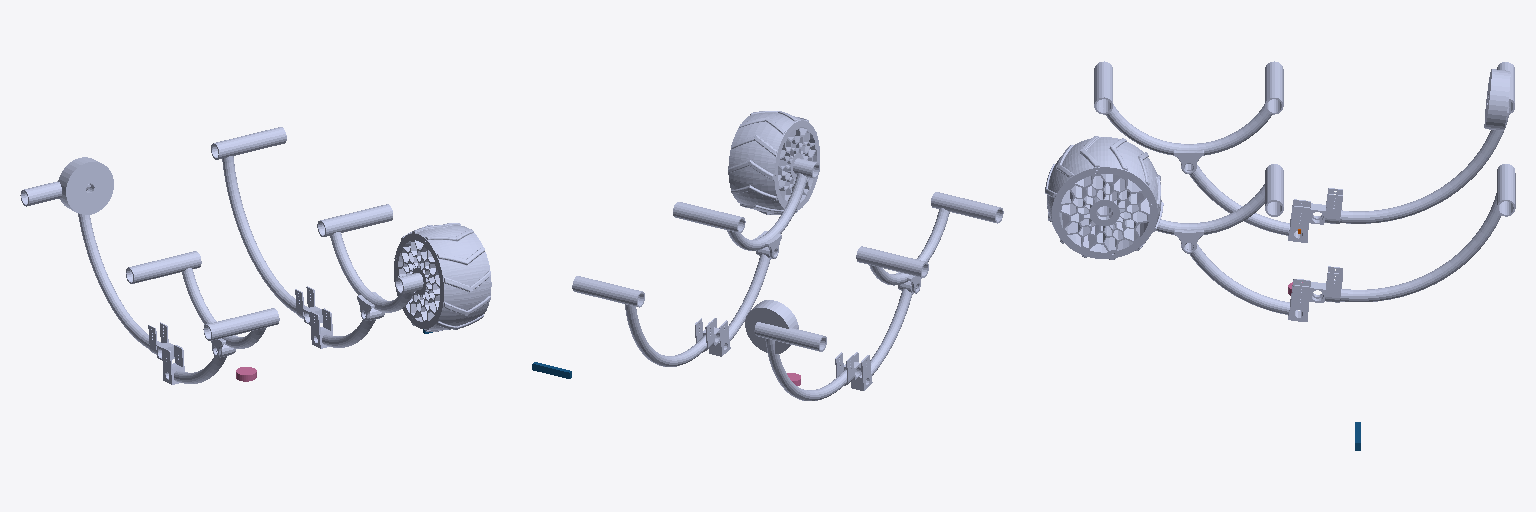
--- Render facts (derived) ---
The picture shows the robot from 3 angles, left to right: view 1: azimuth 30°, elevation 25°; view 2: azimuth 150°, elevation 25°; view 3: azimuth 270°, elevation 25°; orthographic projection.
Model drive with 17 links and 16 joints (6 revolute, 6 continuous, 4 fixed), rooted at base, posed every joint at zero.
Links seen in each view (by area): view 1: wheel_1, left_bogie, right_back, right_bogie, left_back, wheel_6, left_front, right_front; view 2: wheel_1, left_bogie, right_bogie, right_back, left_back, left_front, right_front, wheel_6; view 3: wheel_1, left_bogie, right_back, left_back, right_bogie, right_front, left_front, wheel_6.
Link boxes in pixels (x1,y1,x2,y2): wheel_1: (394,223,491,331); left_bogie: (126,251,279,356); right_back: (211,127,322,325); right_bogie: (317,204,423,320); left_back: (20,181,174,360); wheel_6: (58,157,113,214); left_front: (162,344,233,384); right_front: (310,308,381,348); wheel_1: (728,111,819,214); left_bogie: (856,192,1003,293); right_bogie: (673,158,819,258); right_back: (572,276,720,366); left_back: (754,322,861,400); left_front: (851,281,916,390); right_front: (708,247,774,356); wheel_6: (745,300,798,353); wheel_1: (1045,136,1163,259); left_bogie: (1094,61,1283,173); right_back: (1310,164,1515,302); left_back: (1309,62,1514,224); right_bogie: (1096,164,1283,253); right_front: (1181,243,1310,321); left_front: (1181,164,1310,242); wheel_6: (1484,69,1510,130).
Size in the robot's own frame: 1.24 by 1.24 by 0.6811 metres.
Meshes: 13 distinct files referenced, 8 mesh visuals loaded (8 binary STL); not drawn: 5 (reference not matched to a file when rendering).

The robot description file, URDF, robot "drive":
<?xml version="1.0" encoding="utf-8"?>
<!-- This URDF was automatically created by SolidWorks to URDF Exporter! Originally created by Stephen Brawner ([email redacted]) 
     Commit Version: 1.6.0-1-g15f4949  Build Version: 1.6.7594.29634
     For more information, please see http://wiki.ros.org/sw_urdf_exporter -->
<robot
  name="drive">
  <link
    name="base">
    <inertial>
      <origin
        xyz="-0.345788930637997 -0.153460943930369 -0.0148574304076997"
        rpy="0 0 0" />
      <mass
        value="34.1059688345868" />
      <inertia
        ixx="2.15746797612818"
        ixy="0.00470920534979304"
        ixz="-1.71459033522724E-06"
        iyy="0.759382756881473"
        iyz="0.00265969830513678"
        izz="2.53264735973746" />
    </inertial>
    <visual>
      <origin
        xyz="0 0 0"
        rpy="0 0 0" />
      <geometry>
        <mesh
          filename="package://drive_nav2/meshes/base.STL" />
      </geometry>
      <material
        name="">
        <color
          rgba="0.752941176470588 0.752941176470588 0.752941176470588 1" />
      </material>
    </visual>
    <collision>
      <origin
        xyz="0 0 0"
        rpy="0 0 0" />
      <geometry>
        <mesh
          filename="package://drive_nav2/meshes/base.STL" />
      </geometry>
    </collision>
  </link>
  <link
    name="right_front">
    <inertial>
      <origin
        xyz="-0.12375 -0.053132 0.0225"
        rpy="0 0 0" />
      <mass
        value="0.26897" />
      <inertia
        ixx="0.001013"
        ixy="-0.0017699"
        ixz="2.1696E-09"
        iyy="0.0042352"
        iyz="1.083E-09"
        izz="0.0051616" />
    </inertial>
    <visual>
      <origin
        xyz="0 0 0"
        rpy="0 0 0" />
      <geometry>
        <mesh
          filename="package://drive_nav2/meshes/right_front.STL" />
      </geometry>
      <material
        name="">
        <color
          rgba="0.79216 0.81961 0.93333 1" />
      </material>
    </visual>
    <collision>
      <origin
        xyz="0 0 0"
        rpy="0 0 0" />
      <geometry>
        <mesh
          filename="package://drive_nav2/meshes/right_front.STL" />
      </geometry>
    </collision>
  </link>
  <joint
    name="joint_right_front"
    type="revolute">
    <origin
      xyz="-0.070337 -0.15542 -0.062427"
      rpy="-1.5708 0.12123 1.5708" />
    <parent
      link="base" />
    <child
      link="right_front" />
    <axis
      xyz="0 0 1" />
    <limit
      effort="10"
      velocity="0"
      lower="-1.0"
      upper="1.0" />
  </joint>
  <link
    name="right_bogie">
    <inertial>
      <origin
        xyz="-4.0066E-06 -0.13053 0.016329"
        rpy="0 0 0" />
      <mass
        value="0.59393" />
      <inertia
        ixx="0.0020082"
        ixy="2.9932E-07"
        ixz="-1.3098E-08"
        iyy="0.0053136"
        iyz="3.3927E-09"
        izz="0.0045241" />
    </inertial>
    <visual>
      <origin
        xyz="0 0 0"
        rpy="0 0 0" />
      <geometry>
        <mesh
          filename="package://drive_nav2/meshes/right_bogie.STL" />
      </geometry>
      <material
        name="">
        <color
          rgba="0.79216 0.81961 0.93333 1" />
      </material>
    </visual>
    <collision>
      <origin
        xyz="0 0 0"
        rpy="0 0 0" />
      <geometry>
        <mesh
          filename="package://drive_nav2/meshes/right_bogie.STL" />
      </geometry>
    </collision>
  </link>
  <joint
    name="joint_right_bogie"
    type="revolute">
    <origin
      xyz="-0.31109 -0.16078 0"
      rpy="-3.1416 0 3.0204" />
    <parent
      link="right_front" />
    <child
      link="right_bogie" />
    <axis
      xyz="0 0 1" />
    <limit
      effort="10"
      velocity="0"
      lower="-3.14159"
      upper="3.14159"/>
  </joint>
  <link
    name="wheel_1">
    <inertial>
      <origin
        xyz="-0.08218 0.0011573 0.007099"
        rpy="0 0 0" />
      <mass
        value="32.802" />
      <inertia
        ixx="0.60349"
        ixy="-0.0034113"
        ixz="-0.020925"
        iyy="0.36113"
        iyz="0.00029621"
        izz="0.3629" />
    </inertial>
    <visual>
      <origin
        xyz="0 0 0"
        rpy="0 0 0" />
      <geometry>
        <mesh
          filename="package://drive_nav2/meshes/wheel_1.STL" />
      </geometry>
      <material
        name="">
        <color
          rgba="0.79216 0.81961 0.93333 1" />
      </material>
    </visual>
    <collision>
      <origin
        xyz="0 0 0"
        rpy="0 0 0" />
      <geometry>
        <mesh
          filename="package://drive_nav2/meshes/wheel_1.STL" />
      </geometry>
    </collision>
  </link>
  <joint
    name="joint_wheel_1"
    type="continuous">
    <origin
      xyz="0.225 -0.18509 0"
      rpy="-1.5707 1.5707 0" />
    <parent
      link="right_bogie" />
    <child
      link="wheel_1" />
    <axis
      xyz="1 0 0" />
  </joint>
  <link
    name="wheel_2">
    <inertial>
      <origin
        xyz="-0.08218 0.0011573 0.007099"
        rpy="0 0 0" />
      <mass
        value="32.802" />
      <inertia
        ixx="0.60349"
        ixy="-0.0034113"
        ixz="-0.020925"
        iyy="0.36113"
        iyz="0.00029621"
        izz="0.3629" />
    </inertial>
    <visual>
      <origin
        xyz="0 0 0"
        rpy="0 0 0" />
      <geometry>
        <mesh
          filename="package://drive_nav2/meshes/wheel_2.STL" />
      </geometry>
      <material
        name="">
        <color
          rgba="0.79216 0.81961 0.93333 1" />
      </material>
    </visual>
    <collision>
      <origin
        xyz="0 0 0"
        rpy="0 0 0" />
      <geometry>
        <mesh
          filename="package://drive_nav2/meshes/wheel_2.STL" />
      </geometry>
    </collision>
  </link>
  <joint
    name="joint_wheel_2"
    type="continuous">
    <origin
      xyz="-0.225 -0.18509 0"
      rpy="-1.5707 1.5707 0" />
    <parent
      link="right_bogie" />
    <child
      link="wheel_2" />
    <axis
      xyz="1 0 0" />
  </joint>
  <link
    name="right_back">
    <inertial>
      <origin
        xyz="0.30742 -0.20016 0.070431"
        rpy="0 0 0" />
      <mass
        value="0.46295" />
      <inertia
        ixx="0.0037369"
        ixy="0.0028292"
        ixz="2.8411E-09"
        iyy="0.0040089"
        iyz="-4.7273E-09"
        izz="0.0063232" />
    </inertial>
    <visual>
      <origin
        xyz="0 0 0"
        rpy="0 0 0" />
      <geometry>
        <mesh
          filename="package://drive_nav2/meshes/right_back.STL" />
      </geometry>
      <material
        name="">
        <color
          rgba="0.79216 0.81961 0.93333 1" />
      </material>
    </visual>
    <collision>
      <origin
        xyz="0 0 0"
        rpy="0 0 0" />
      <geometry>
        <mesh
          filename="package://drive_nav2/meshes/right_back.STL" />
      </geometry>
    </collision>
  </link>
  <joint
    name="joint_right_back"
    type="revolute">
    <origin
      xyz="0 -0.10542 -0.012427"
      rpy="-1.5708 0.12123 1.5708" />
    <parent
      link="base" />
    <child
      link="right_back" />
    <axis
      xyz="0 0 1" />
    <limit
      effort="10"
      velocity="0"
      lower="-1.0"
      upper="1.0" />
  </joint>
  <link
    name="wheel_3">
    <inertial>
      <origin
        xyz="-0.0096197 0.00013586 0.00083348"
        rpy="0 0 0" />
      <mass
        value="32.802" />
      <inertia
        ixx="0.60349"
        ixy="-0.0034113"
        ixz="-0.020925"
        iyy="0.36113"
        iyz="0.0002962"
        izz="0.3629" />
    </inertial>
    <visual>
      <origin
        xyz="0 0 0"
        rpy="0 0 0" />
      <geometry>
        <mesh
          filename="package://drive_nav2/meshes/wheel_3.STL" />
      </geometry>
      <material
        name="">
        <color
          rgba="0.79216 0.81961 0.93333 1" />
      </material>
    </visual>
    <collision>
      <origin
        xyz="0 0 0"
        rpy="0 0 0" />
      <geometry>
        <mesh
          filename="package://drive_nav2/meshes/wheel_3.STL" />
      </geometry>
    </collision>
  </link>
  <joint
    name="joint_wheel_3"
    type="continuous">
    <origin
      xyz="0.45337 -0.39 0"
      rpy="-1.5707 1.5707 0" />
    <parent
      link="right_back" />
    <child
      link="wheel_3" />
    <axis
      xyz="1 0 0" />
  </joint>
  <link
    name="left_front">
    <inertial>
      <origin
        xyz="-0.12375 -0.053132 0.0225"
        rpy="0 0 0" />
      <mass
        value="0.26897" />
      <inertia
        ixx="0.001013"
        ixy="-0.0017699"
        ixz="2.1696E-09"
        iyy="0.0042352"
        iyz="1.083E-09"
        izz="0.0051616" />
    </inertial>
    <visual>1.5707 0 0
      <origin
        xyz="0 0 0"
        rpy="0 0 0" />
      <geometry>
        <mesh
          filename="package://drive_nav2/meshes/left_front.STL" />
      </geometry>
      <material
        name="">
        <color
          rgba="0.79216 0.81961 0.93333 1" />
      </material>
    </visual>
    <collision>
      <origin
        xyz="0 0 0"
        rpy="0 0 0" />
      <geometry>
        <mesh
          filename="package://drive_nav2/meshes/left_front.STL" />
      </geometry>
    </collision>
  </link>
  <joint
    name="joint_left_front"
    type="revolute">
    <origin
      xyz="-0.56534 -0.15578 -0.062427"
      rpy="-1.5708 0.12123 1.5708" />
    <parent
      link="base" />
    <child
      link="left_front" />
    <axis
      xyz="0 0 1" />
    <limit
      effort="10"
      velocity="0"
      lower="-1.0"
      upper="1.0" />
  </joint>
  <link
    name="left_bogie">
    <inertial>
      <origin
        xyz="-4.009E-06 -0.13053 0.061329"
        rpy="0 0 0" />
      <mass
        value="0.59393" />
      <inertia
        ixx="0.0020082"
        ixy="2.9938E-07"
        ixz="-1.3098E-08"
        iyy="0.0053136"
        iyz="3.3927E-09"
        izz="0.0045241" />
    </inertial>
    <visual>
      <origin
        xyz="0 0 0"
        rpy="0 0 0" />
      <geometry>
        <mesh
          filename="package://drive_nav2/meshes/left_bogie.STL" />
      </geometry>
      <material
        name="">
        <color
          rgba="0.79216 0.81961 0.93333 1" />
      </material>
    </visual>
    <collision>
      <origin
        xyz="0 0 0"
        rpy="0 0 0" />
      <geometry>
        <mesh
          filename="package://drive_nav2/meshes/left_bogie.STL" />
      </geometry>
    </collision>
  </link>
  <joint
    name="joint_left_bogie"
    type="revolute">
    <origin
      xyz="-0.31109 -0.16078 0"
      rpy="0 0 -0.12123" />
    <parent
      link="left_front" />
    <child
      link="left_bogie" />
    <axis
      xyz="0 0 1" />
    <limit
      effort="10"
      velocity="0"
      lower="-3.14159"
      upper="3.14159" />
  </joint>
  <link
    name="wheel_4">
    <inertial>
      <origin
        xyz="-0.1102 0.0015518 0.0095182"
        rpy="0 0 0" />
      <mass
        value="32.802" />
      <inertia
        ixx="0.60349"
        ixy="-0.0034113"
        ixz="-0.020925"
        iyy="0.36113"
        iyz="0.0002962"
        izz="0.3629" />
    </inertial>
    <visual>
      <origin
        xyz="0 0 0"
        rpy="0 0 0" />
      <geometry>
        <mesh
          filename="package://drive_nav2/meshes/wheel_4.STL" />
      </geometry>
      <material
        name="">
        <color
          rgba="0.79216 0.81961 0.93333 1" />
      </material>
    </visual>
    <collision>
      <origin
        xyz="0 0 0"
        rpy="0 0 0" />
      <geometry>
        <mesh
          filename="package://drive_nav2/meshes/wheel_4.STL" />
      </geometry>
    </collision>
  </link>
  <joint
    name="joint_wheel_4"
    type="continuous">
    <origin
      xyz="-0.225 -0.18509 0.016876"
      rpy="-1.5707 1.5707 0" />
    <parent
      link="left_bogie" />
    <child
      link="wheel_4" />
    <axis
      xyz="1 0 0" />
  </joint>
  <link
    name="wheel_5">
    <inertial>
      <origin
        xyz="-0.1102 0.0015518 0.0095182"
        rpy="0 0 0" />
      <mass
        value="32.802" />
      <inertia
        ixx="0.60349"
        ixy="-0.0034113"
        ixz="-0.020925"
        iyy="0.36113"
        iyz="0.00029621"
        izz="0.3629" />
    </inertial>
    <visual>
      <origin
        xyz="0 0 0"
        rpy="0 0 0" />
      <geometry>
        <mesh
          filename="package://drive_nav2/meshes/wheel_5.STL" />
      </geometry>
      <material
        name="">
        <color
          rgba="0.79216 0.81961 0.93333 1" />
      </material>
    </visual>
    <collision>
      <origin
        xyz="0 0 0"
        rpy="0 0 0" />
      <geometry>
        <mesh
          filename="package://drive_nav2/meshes/wheel_5.STL" />
      </geometry>
    </collision>
  </link>
  <joint
    name="joint_wheel_5"
    type="continuous">
    <origin
      xyz="0.225 -0.18509 0.016876"
      rpy="-1.5707 1.5707 0" />
    <parent
      link="left_bogie" />
    <child
      link="wheel_5" />
    <axis
      xyz="1 0 0" />
  </joint>
  <link
    name="left_back">
    <inertial>
      <origin
        xyz="0.307417610449746 -0.200159784838589 0.0649065740190656"
        rpy="0 0 0" />
      <mass
        value="0.462954112817127" />
      <inertia
        ixx="0.00373689017269687"
        ixy="0.00282920501842546"
        ixz="2.84105774800552E-09"
        iyy="0.00400887791416429"
        iyz="-4.72732351366836E-09"
        izz="0.00632322267910215" />
    </inertial>
    <visual>
      <origin
        xyz="0 0 0"
        rpy="0 0 0" />
      <geometry>
        <mesh
          filename="package://drive_nav2/meshes/left_back.STL" />
      </geometry>
      <material
        name="">
        <color
          rgba="0.792156862745098 0.819607843137255 0.933333333333333 1" />
      </material>
    </visual>
    <collision>
      <origin
        xyz="0 0 0"
        rpy="0 0 0" />
      <geometry>
        <mesh
          filename="package://drive_nav2/meshes/left_back.STL" />
      </geometry>
    </collision>
  </link>
  <joint
    name="joint_left_back"
    type="revolute">
    <origin
      xyz="-0.54534 -0.10578 -0.012427"
      rpy="-1.5708 0.12123 1.5708" />
    <parent
      link="base" />
    <child
      link="left_back" />
    <axis
      xyz="0 0 1" />
    <limit
      effort="10"
      velocity="0"
      lower="-1.0"
      upper="1.0" />
  </joint>
  <link
    name="wheel_6">
    <inertial>
      <origin
        xyz="-0.110196647547582 0.0015517611086607 0.00951816460722743"
        rpy="0 0 0" />
      <mass
        value="32.8019150211691" />
      <inertia
        ixx="0.603492451808882"
        ixy="-0.0034112585032357"
        ixz="-0.0209247366705797"
        iyy="0.361131034411668"
        iyz="0.000296199081101525"
        izz="0.362901341391592" />
    </inertial>
    <visual>
      <origin
        xyz="0 0 0"
        rpy="0 0 0" />
      <geometry>
        <mesh
          filename="package://drive_nav2/meshes/wheel_6.STL" />
      </geometry>
      <material
        name="">
        <color
          rgba="0.792156862745098 0.819607843137255 0.933333333333333 1" />
      </material>
    </visual>
    <collision>
      <origin
        xyz="0 0 0"
        rpy="0 0 0" />
      <geometry>
        <mesh
          filename="package://drive_nav2/meshes/wheel_6.STL" />
      </geometry>
    </collision>
  </link>
  <joint
    name="joint_wheel_6"
    type="continuous">
    <origin
      xyz="0.45337 -0.39 0.034376"
      rpy="-1.5707 1.5707 0" />
    <parent
      link="left_back" />
    <child
      link="wheel_6" />
    <axis
      xyz="1 0 0" />
  </joint>

  <!-- Gazebo properties for wheel friction -->
  <gazebo reference="wheel_1">
    <mu1>0.8</mu1>
    <mu2>0.8</mu2>
    <material>Gazebo/Black</material>
  </gazebo>
  <gazebo reference="wheel_2">
    <mu1>0.8</mu1>
    <mu2>0.8</mu2>
    <material>Gazebo/Black</material>
  </gazebo>
  <gazebo reference="wheel_3">
    <mu1>0.8</mu1>
    <mu2>0.8</mu2>
    <material>Gazebo/Black</material>
  </gazebo>
  <gazebo reference="wheel_4">
    <mu1>0.8</mu1>
    <mu2>0.8</mu2>
    <material>Gazebo/Black</material>
  </gazebo>
  <gazebo reference="wheel_5">
    <mu1>0.8</mu1>
    <mu2>0.8</mu2>
    <material>Gazebo/Black</material>
  </gazebo>
  <gazebo reference="wheel_6">
    <mu1>0.8</mu1>
    <mu2>0.8</mu2>
    <material>Gazebo/Black</material>
  </gazebo>

  <!-- Gazebo joint properties for better simulation -->
  <gazebo reference="joint_wheel_1">
    <implicitSpringDamper>true</implicitSpringDamper>
  </gazebo>
  <gazebo reference="joint_wheel_2">
    <implicitSpringDamper>true</implicitSpringDamper>
  </gazebo>
  <gazebo reference="joint_wheel_3">
    <implicitSpringDamper>true</implicitSpringDamper>
  </gazebo>
  <gazebo reference="joint_wheel_4">
    <implicitSpringDamper>true</implicitSpringDamper>
  </gazebo>
  <gazebo reference="joint_wheel_5">
    <implicitSpringDamper>true</implicitSpringDamper>
  </gazebo>
  <gazebo reference="joint_wheel_6">
    <implicitSpringDamper>true</implicitSpringDamper>
  </gazebo>

  <ros2_control name="RoverHardware" type="system">
    <hardware>
      <plugin>ign_ros2_control/IgnitionSystem</plugin>
    </hardware>
    <joint name="joint_right_front">
      <command_interface name="position">
        <param name="min">-1.0</param>
        <param name="max">1.0</param>
      </command_interface>
      <state_interface name="position"/>
      <state_interface name="velocity"/>
    </joint>
    <joint name="joint_right_back">
      <command_interface name="position">
        <param name="min">-1.0</param>
        <param name="max">1.0</param>
      </command_interface>
      <state_interface name="position"/>
      <state_interface name="velocity"/>
    </joint>
    <joint name="joint_left_front">
      <command_interface name="position">
        <param name="min">-1.0</param>
        <param name="max">1.0</param>
      </command_interface>
      <state_interface name="position"/>
      <state_interface name="velocity"/>
    </joint>
    <joint name="joint_left_back">
      <command_interface name="position">
        <param name="min">-1.0</param>
        <param name="max">1.0</param>
      </command_interface>
      <state_interface name="position"/>
      <state_interface name="velocity"/>
    </joint>
    <joint name="joint_right_bogie">
      <state_interface name="position"/>
      <state_interface name="velocity"/>
    </joint>
    <joint name="joint_left_bogie">
      <state_interface name="position"/>
      <state_interface name="velocity"/>
    </joint>
    <joint name="joint_wheel_1">
      <command_interface name="velocity"/>
      <state_interface name="position"/>
      <state_interface name="velocity"/>
    </joint>
    <joint name="joint_wheel_2">
      <command_interface name="velocity"/>
      <state_interface name="position"/>
      <state_interface name="velocity"/>
    </joint>
    <joint name="joint_wheel_3">
      <command_interface name="velocity"/>
      <state_interface name="position"/>
      <state_interface name="velocity"/>
    </joint>
    <joint name="joint_wheel_4">
      <command_interface name="velocity"/>
      <state_interface name="position"/>
      <state_interface name="velocity"/>
    </joint>
    <joint name="joint_wheel_5">
      <command_interface name="velocity"/>
      <state_interface name="position"/>
      <state_interface name="velocity"/>
    </joint>
    <joint name="joint_wheel_6">
      <command_interface name="velocity"/>
      <state_interface name="position"/>
      <state_interface name="velocity"/>
    </joint>
  </ros2_control>

  <!-- Gazebo plugin for ros2_control -->
  <gazebo>
    <plugin filename="ign_ros2_control-system" name="ign_ros2_control::IgnitionROS2ControlPlugin">
      <parameters>[local-path]/nav2_ws/src/drive_nav2/config/rover_controllers.yaml</parameters>
      <ros>
        <remapping>/clock:=/clock</remapping>
      </ros>
    </plugin>
  </gazebo>

  <!-- IMU Sensor -->
  <link name="imu_link">
    <inertial>
      <mass value="0.01"/>
      <origin xyz="0 0 0" rpy="0 0 0"/>
      <inertia ixx="1e-5" ixy="0.0" ixz="0.0" iyy="1e-5" iyz="0.0" izz="1e-5"/>
    </inertial>
    <visual>
      <geometry>
        <box size="0.01 0.01 0.01"/>
      </geometry>
    </visual>
    <collision>
      <geometry>
        <box size="0.01 0.01 0.01"/>
      </geometry>
    </collision>
  </link>
  <joint name="imu_joint" type="fixed">
    <parent link="base"/>
    <child link="imu_link"/>
    <origin xyz="-0.345788930637997 -0.153460943930369 0.05" rpy="0 0 0"/>
  </joint>
  <gazebo reference="imu_link">
    <sensor name="imu_sensor" type="imu">
      <pose>0 0 0 0 0 0</pose>
      <update_rate>50</update_rate>
      <always_on>true</always_on>
      <visualize>true</visualize>
      <topic>/imu/data</topic>
      <imu>
        <noise>
          <type>gaussian</type>
          <mean>0.0</mean>
          <stddev>0.0002</stddev>
        </noise>
      </imu>
      <plugin filename="libignition-gazebo-imu-system.so"
        name="ignition::gazebo::systems::Imu">
        <topic>/imu</topic>
      </plugin>
    </sensor>
  </gazebo>

<!-- LiDAR Sensor -->
<link name="lidar_link">
    <inertial>
      <mass value="0.01"/>
      <origin xyz="0 0 0" rpy="0 0 0"/>
      <inertia ixx="1e-5" ixy="0.0" ixz="0.0" iyy="1e-5" iyz="0.0" izz="1e-5"/>
    </inertial>
    <visual>
      <geometry>
        <cylinder radius="0.03" length="0.02"/>
      </geometry>
    </visual>
    <collision>
      <geometry>
        <cylinder radius="0.03" length="0.02"/>
      </geometry>
    </collision>
  </link>
  <joint name="lidar_joint" type="fixed">
    <parent link="base"/>
    <child link="lidar_link"/>
    <origin xyz="-0.345788930637997 -0.153460943930369 -0.12" rpy="0 0 0"/>
  </joint>
  <gazebo reference="lidar_link">
    <sensor name='lidar' type='gpu_lidar'>
      <pose>0 0 0 0 0 0</pose>
      <topic>/scan</topic>
      <update_rate>10</update_rate>
      <ray>
        <scan>
          <horizontal>
            <samples>640</samples>
            <resolution>1</resolution>
            <min_angle>-1.396263</min_angle>
            <max_angle>1.396263</max_angle>
          </horizontal>
          <vertical>
            <samples>1</samples>
            <resolution>0.01</resolution>
            <min_angle>0</min_angle>
            <max_angle>0</max_angle>
          </vertical>
        </scan>
        <range>
          <min>0.08</min>
          <max>10.0</max>
          <resolution>0.01</resolution>
        </range>
      </ray>
      <always_on>1</always_on>
      <visualize>true</visualize>
    </sensor>
  </gazebo>

  <link name="camera_link">
    <visual>
      <origin xyz="0 0 0" rpy="0 0 0"/>
      <geometry>
        <box size="0.015 0.130 0.022"/>
      </geometry>
      <material name="LightBlue">
        <color rgba="0.11 0.37 0.56 1.0"/>
      </material>
    </visual>
    <collision>
      <origin xyz="0 0 0" rpy="0 0 0"/>
      <geometry>
        <box size="0.015 0.130 0.022"/>
      </geometry>
    </collision>
    <inertial>
      <origin xyz="0 0 0" rpy="0 0 0"/>
      <mass value="0.035"/>
      <inertia ixx="0.001" ixy="0" ixz="0" iyy="0.001" iyz="0" izz="0.001" />
    </inertial>
  </link>

  <joint name="camera_joint" type="fixed">
    <parent link="base"/>
    <child link="camera_link"/>
    <origin xyz="0.4 0 -0.2" rpy="0 0 -1.5708"/>
  </joint>

  <link name="camera_frame"/>

  <joint name="camera_frame_joint" type="fixed">
    <origin xyz="0 0 0" rpy="0 0 0"/>
    <parent link="camera_link"/>
    <child link="camera_frame"/>
  </joint>

  <gazebo reference="camera_link">
    <sensor name="robot_cam" type="camera">
      <camera>
        <horizontal_fov>1.047</horizontal_fov>
        <image>
          <width>320</width>
          <height>240</height>
        </image>
        <clip>
          <near>0.1</near>
          <far>100</far>
        </clip>
      </camera>
      <always_on>1</always_on>
      <update_rate>30</update_rate>
      <visualize>true</visualize>
      <topic>robot_cam</topic>
      <enable_metrics>true</enable_metrics>
    </sensor>
  </gazebo>

</robot>
